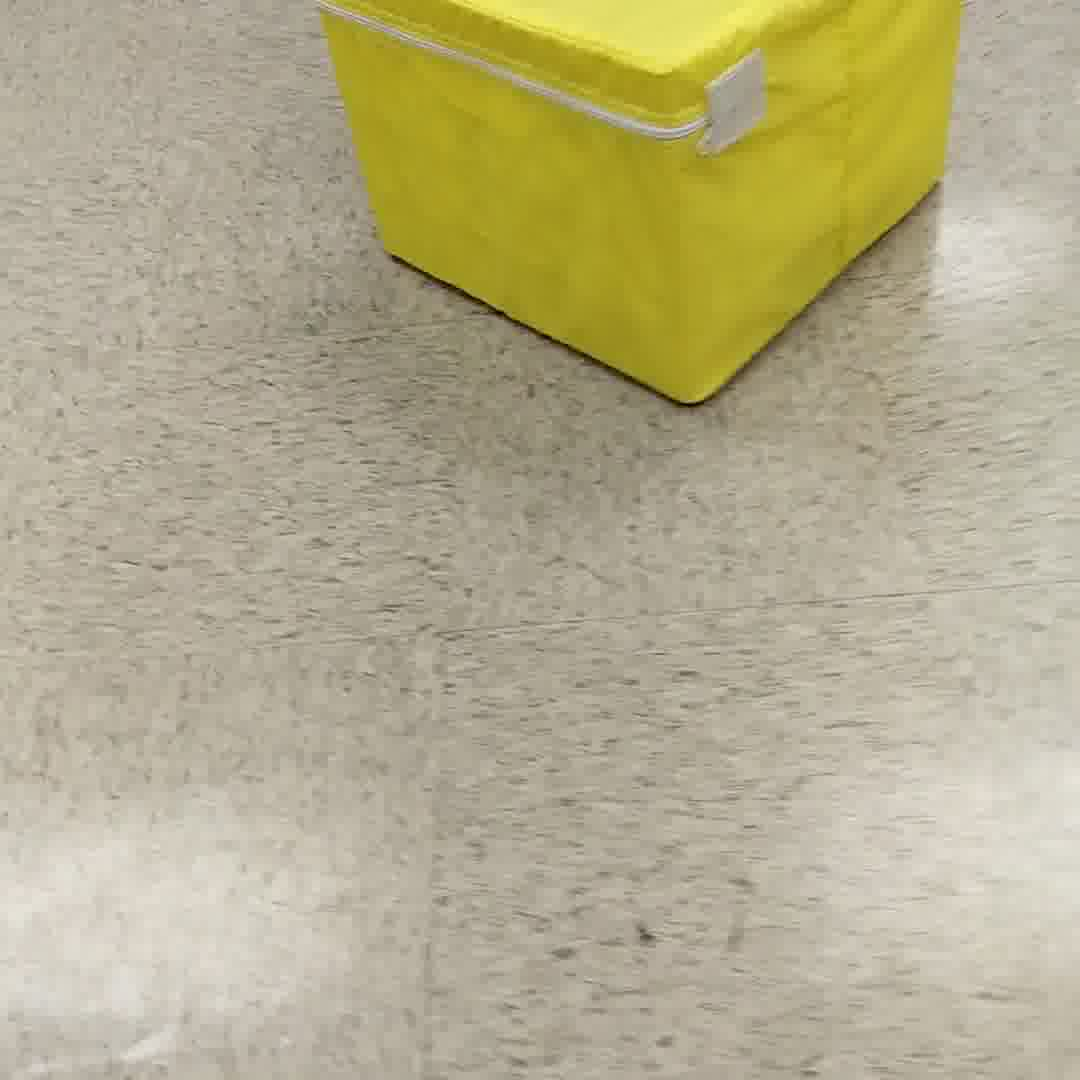box: (316, 5, 932, 405)
